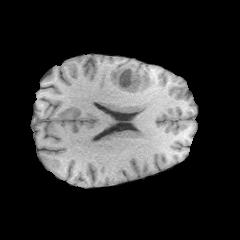glioma: (110, 60, 150, 92)
